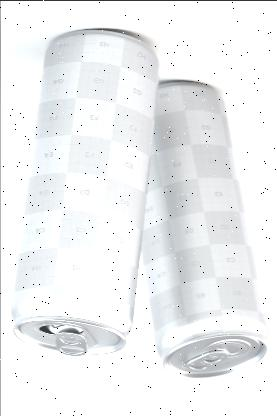Can: (10, 29, 158, 354), (141, 80, 267, 377)
